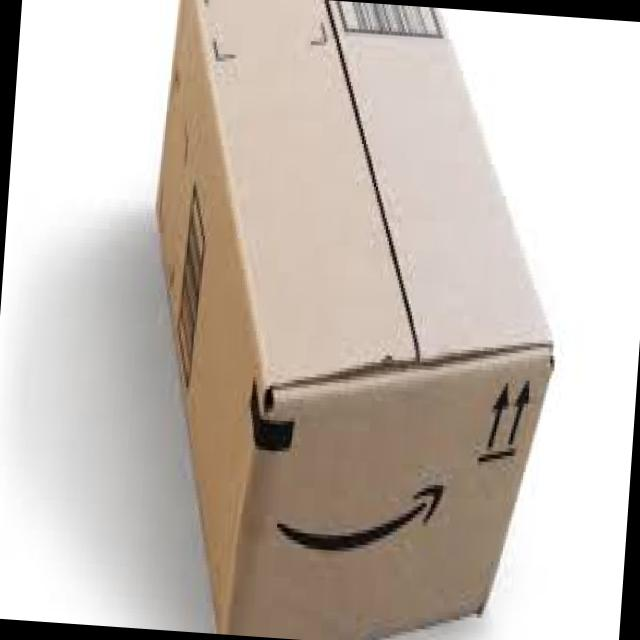box: (155, 0, 555, 640)
